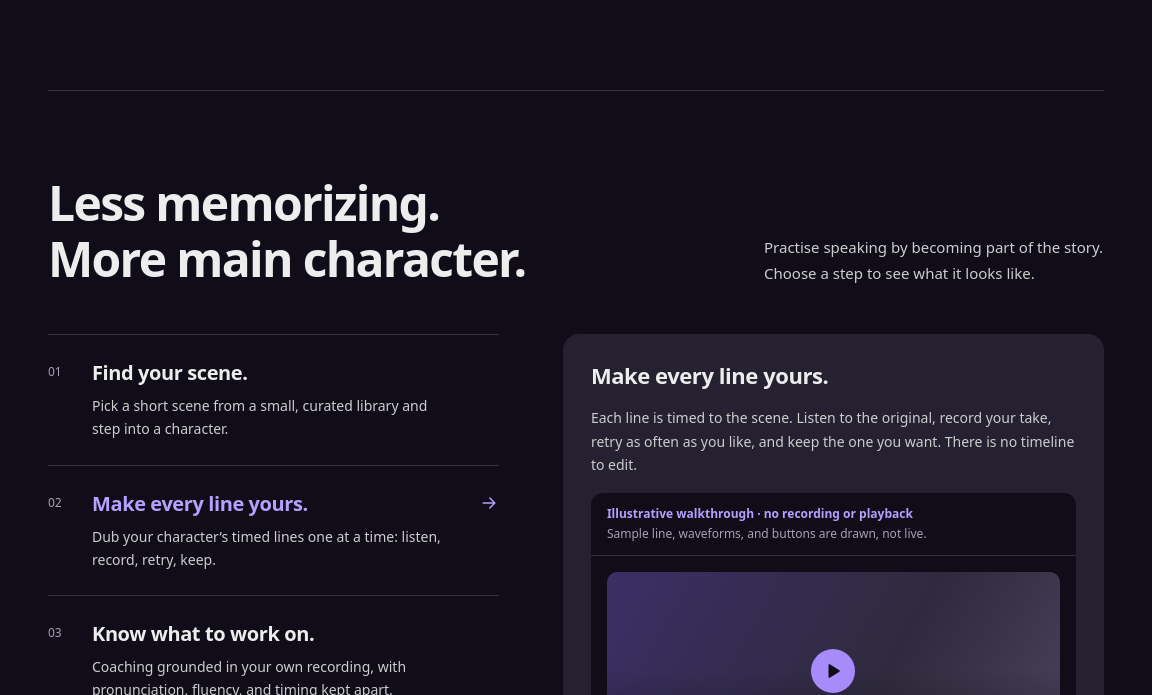
Test case: walkthrough tabs › a mouse click selects a step and shows its panel
The image size is (1152, 695).
(page scrolled)
Click the tab "Find your scene." at coordinates (170, 373), box [92,359,463,386]
(page scrolled)
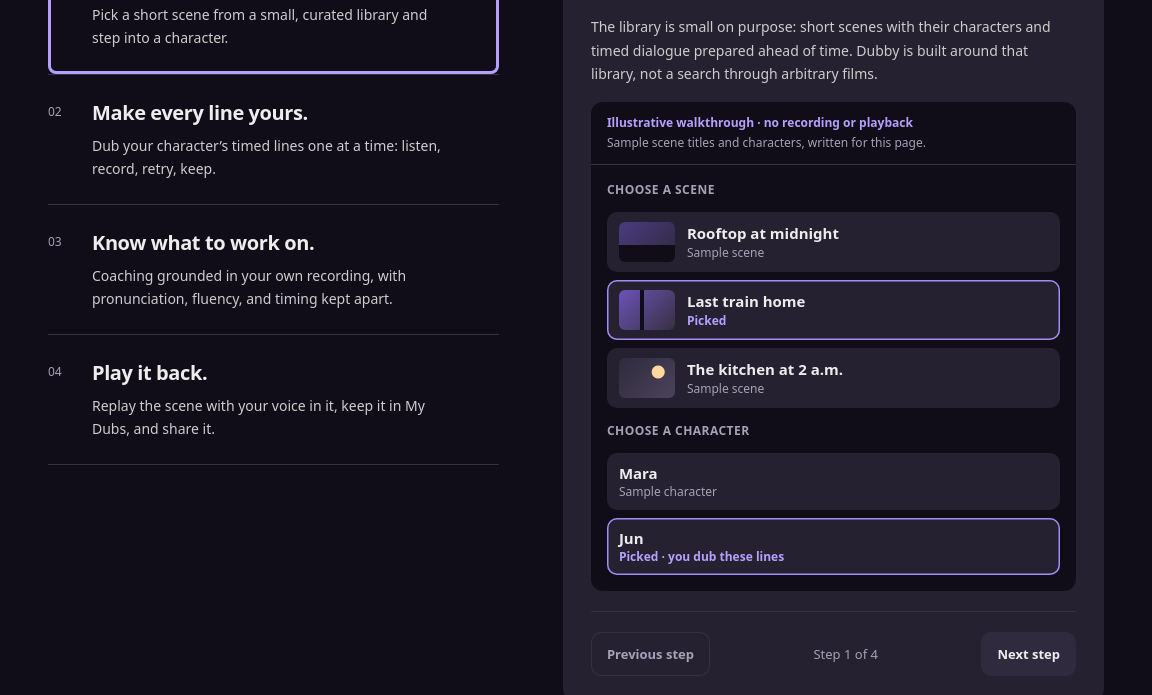
Now the text "Choose a scene" is shown, box [607,181,715,198]
Click the tab "Play it back." at coordinates (150, 372), box [92,359,463,386]
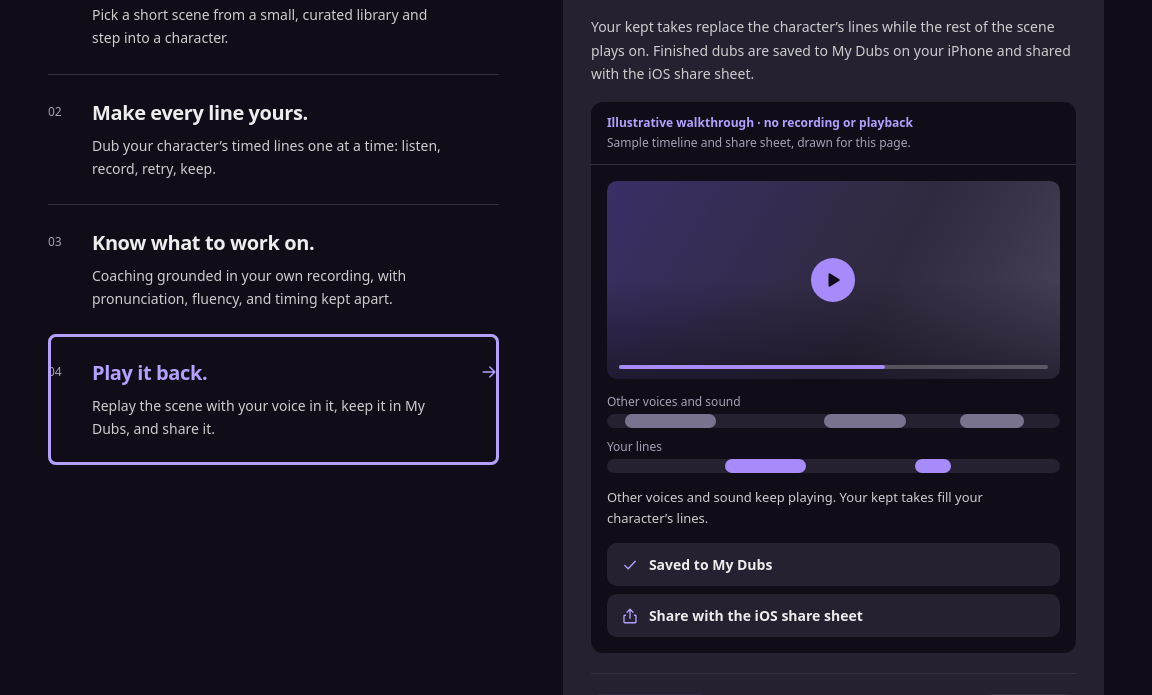
Now the list item "Saved to My Dubs" is shown, box [607,543,1060,586]
Now the list item "Share with the iOS share sheet" is shown, box [607,594,1060,637]
